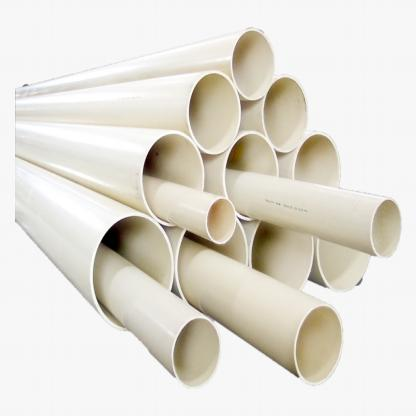PVC: (14, 154, 173, 329), (177, 236, 344, 384), (15, 119, 205, 226), (16, 68, 242, 156), (16, 28, 276, 100), (94, 246, 224, 389), (224, 167, 405, 261), (165, 220, 250, 317), (203, 130, 279, 222), (144, 171, 235, 244), (241, 72, 308, 154), (242, 220, 313, 290), (278, 130, 341, 186), (308, 239, 372, 294)
